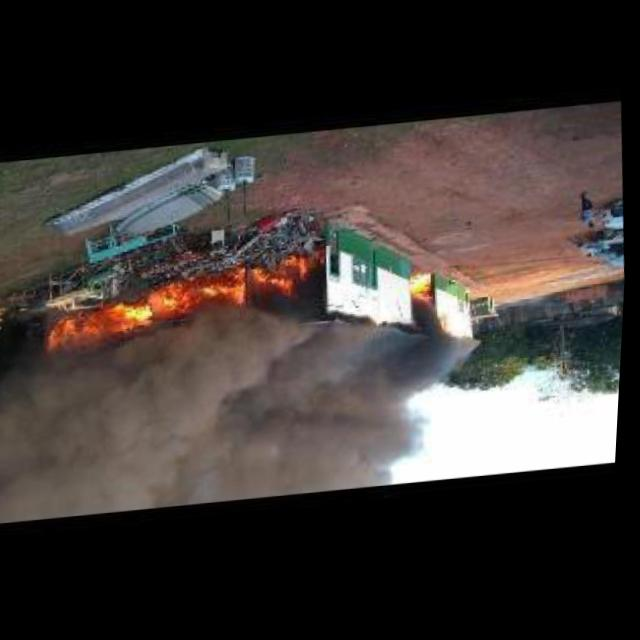Fire: (0, 298, 494, 526), (44, 291, 155, 359), (156, 263, 253, 322), (251, 250, 328, 309), (410, 275, 439, 309)
